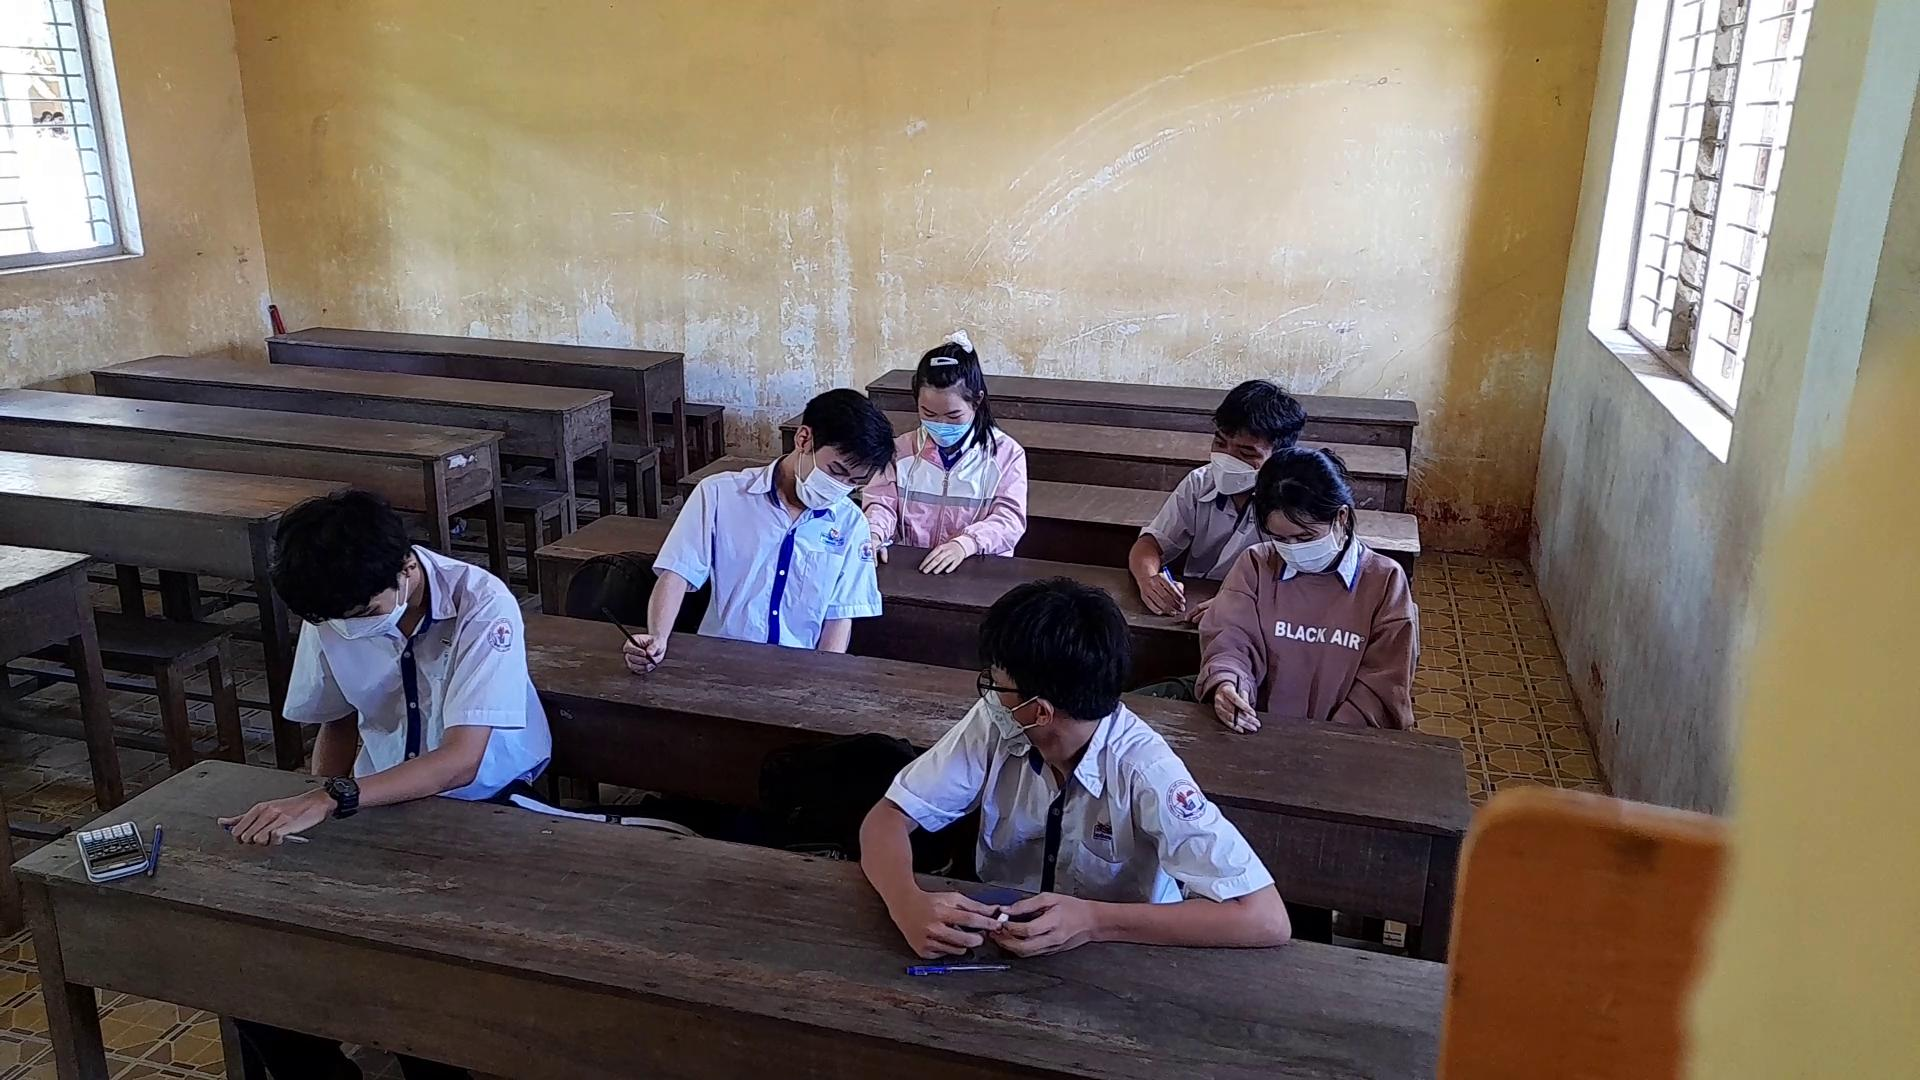Bend Over The Desk: (270, 480, 429, 644), (1236, 433, 1356, 580), (775, 378, 894, 526), (894, 323, 1013, 471)
Hand Under Table: (1321, 556, 1429, 731), (280, 624, 368, 774), (803, 506, 891, 655)
Look Around: (968, 568, 1131, 765)
